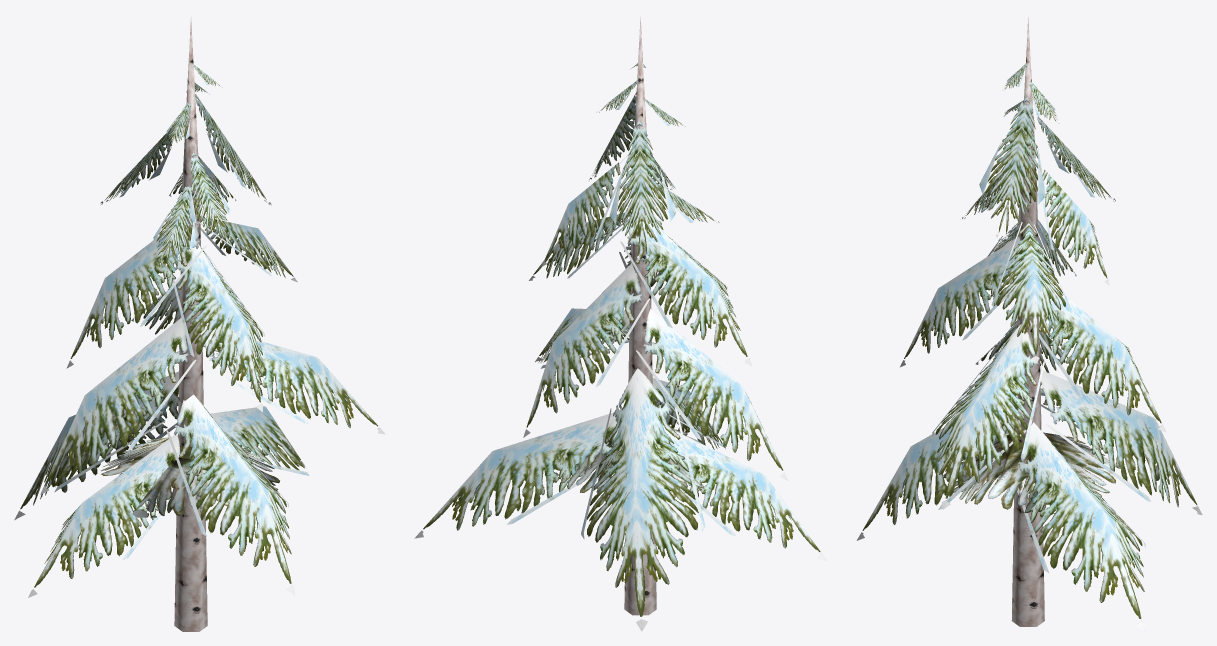
Rendered from ironforgesnowtree01.obj.
The picture shows the model from 3 angles, left to right: view 1: azimuth 30°, elevation 25°; view 2: azimuth 150°, elevation 25°; view 3: azimuth 270°, elevation 25°; orthographic projection. The views are drawn at different scales.
Visible parts, largest first — view 1: Geoset0, Geoset1, Geoset2; view 2: Geoset0, Geoset1, Geoset2; view 3: Geoset0, Geoset1, Geoset2.
Boxes of the visible parts, x1,y1,x2,y2 form: Geoset0: (14,64,385,597); Geoset1: (174,16,207,631); Geoset2: (101,437,279,517); Geoset0: (414,63,826,631); Geoset1: (624,16,656,615); Geoset2: (543,429,704,501); Geoset0: (856,63,1202,631); Geoset1: (1011,17,1044,626); Geoset2: (943,432,1120,513).
Size of the model in its own units: 9.92 by 16.52 by 8.54.
3 materials, 3 textured.
